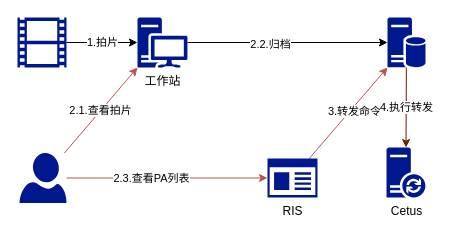
The diagram is 450 pixels wide and 235 high, and some of its shapes have lost their labels. Each missing label, with the box of its shape:
云PACS: (387, 17, 425, 67)
设备: (17, 17, 66, 67)
